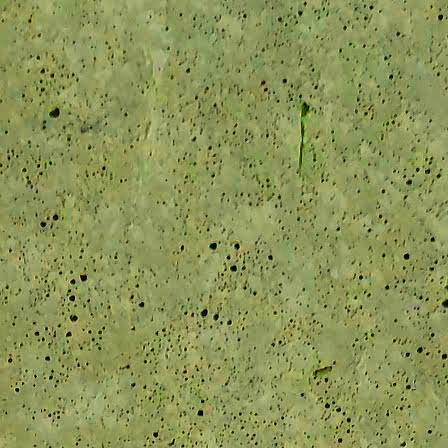spalling: (292, 100, 314, 167), (45, 106, 65, 125)
